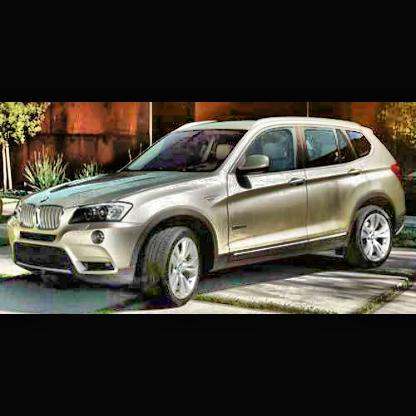BMW X3 SUV 2012: (14, 116, 404, 308)
